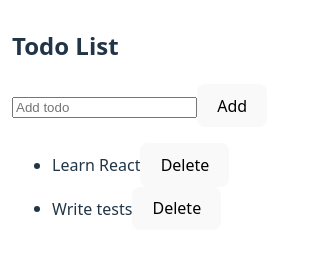
Test case: TodoList Component › adds a new todo
This screenshot has width=332, height=257.
Type "New Todo" into the field with placeholder "Add todo" at (104, 107), box [12, 97, 197, 118]
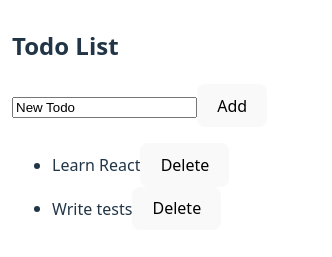
Click the button "Add" at (232, 106), box [197, 84, 267, 127]
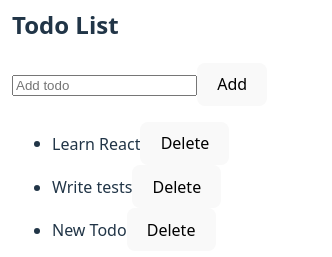
Result: the text "New Todo" is shown at [52, 219, 127, 241]
Result: the field with placeholder "Add todo" is empty at [12, 75, 197, 96]
